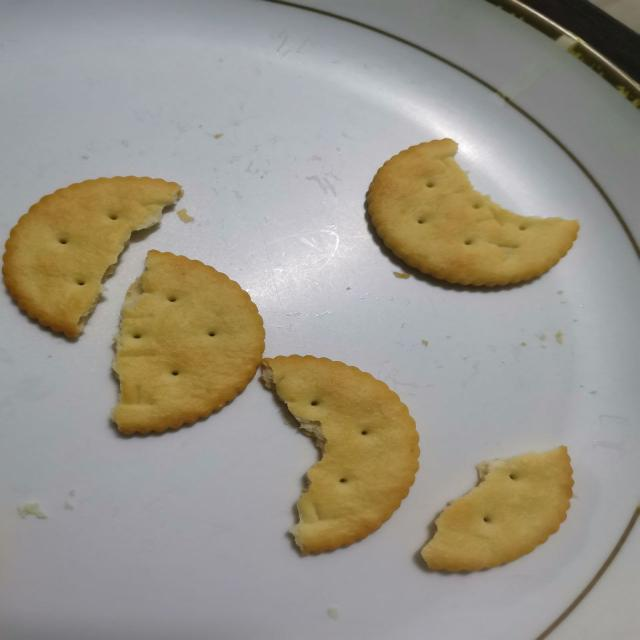broken biscuit: (258, 352, 421, 556), (362, 136, 580, 288), (1, 173, 184, 340), (109, 248, 266, 436), (419, 443, 575, 573)
